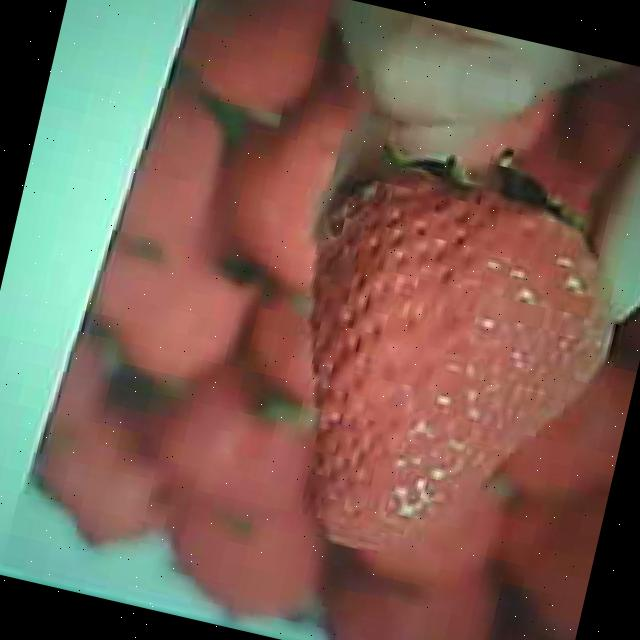strawberry: (253, 149, 640, 590)
